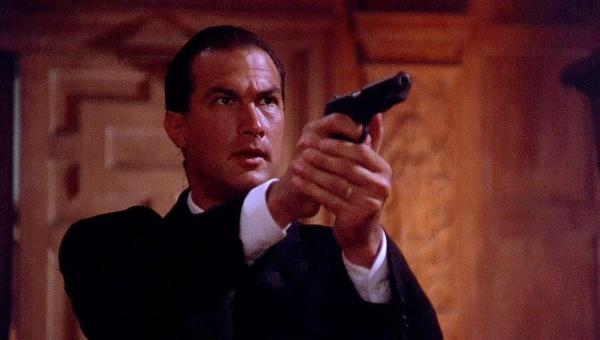Gun: (322, 70, 413, 143)
